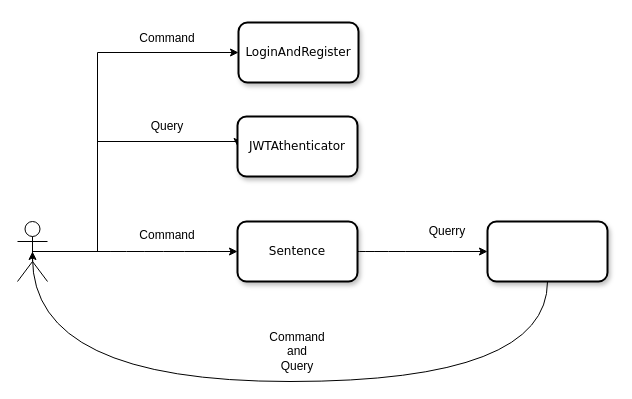
This 632x399 diagram has some shape labels left out. Each missing label, with the centre of its shape:
Actor: [32,251]
Module: [548,252]
